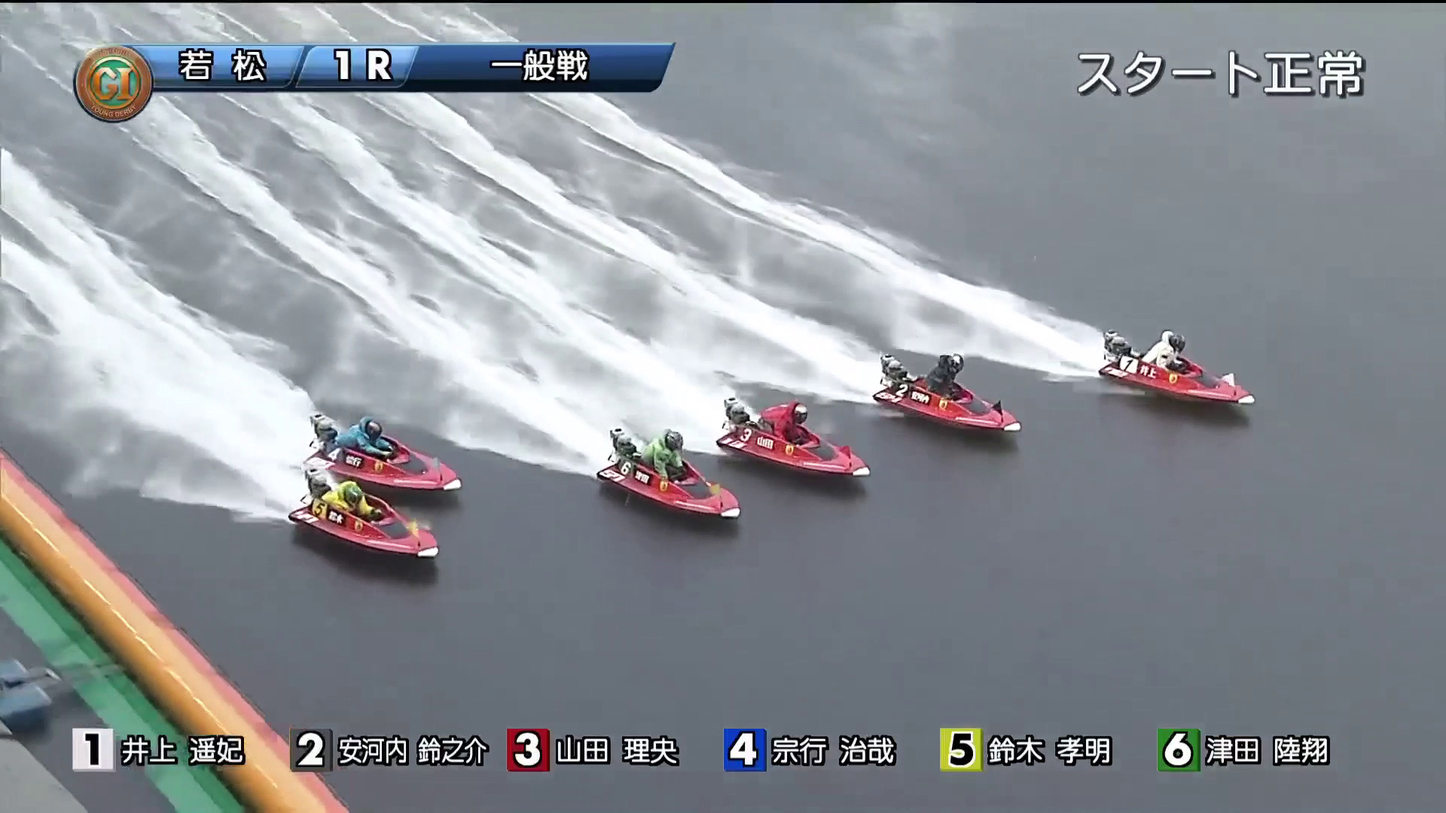１号艇: (1107, 345, 1240, 397)
２号艇: (884, 363, 1009, 421)
３号艇: (747, 425, 883, 467)
４号艇: (620, 455, 739, 519)
５号艇: (331, 432, 454, 488)
６号艇: (344, 518, 443, 575)
